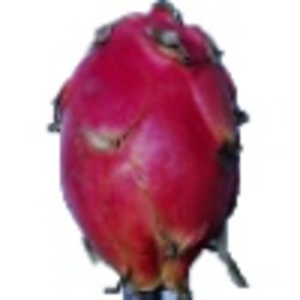pitaia: (48, 1, 252, 300)
